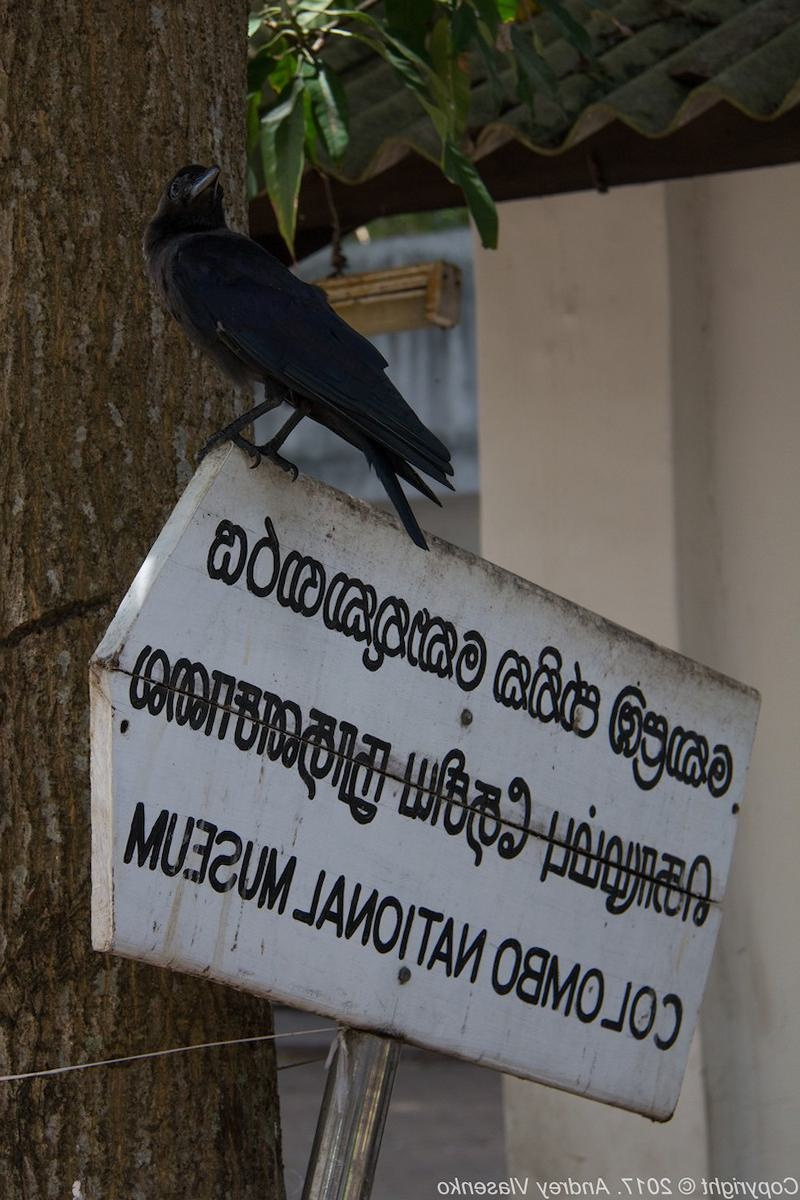crow: (129, 151, 510, 545)
